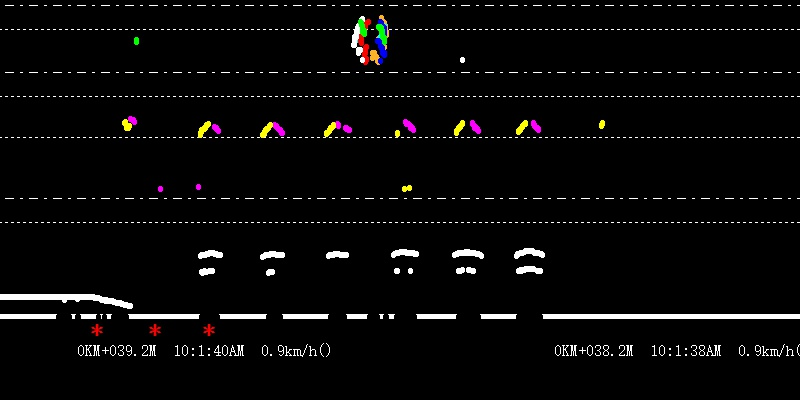J: (355, 5, 391, 68)
face_down: (129, 22, 143, 49)
star: (146, 322, 165, 340), (200, 320, 216, 338), (89, 321, 104, 339)
y_p: (186, 111, 548, 264)
